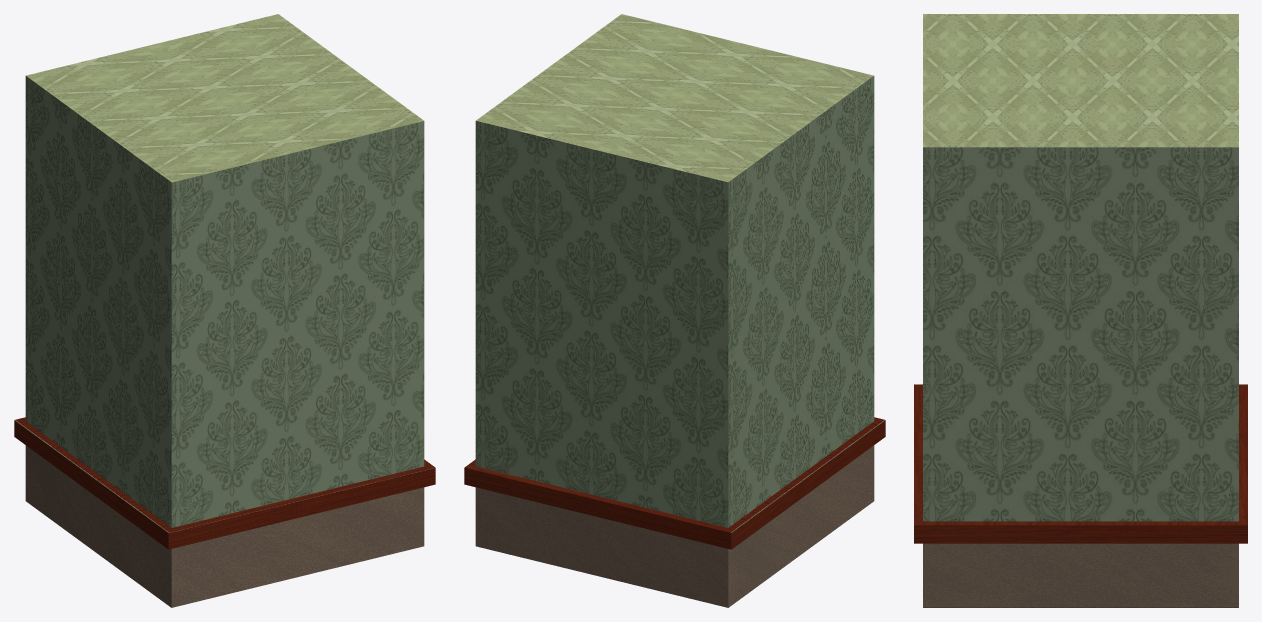
File: wall.obj
3 renders of one model, left to right at view 1: azimuth 30°, elevation 25°; view 2: azimuth 150°, elevation 25°; view 3: azimuth 270°, elevation 25°, orthographic. The views are drawn at different scales.
Parts seen in each view (by area): view 1: Cube; view 2: Cube; view 3: Cube.
Part boxes in pixels (left/top/right/bottom): Cube: left=14, top=14, right=435, bottom=607; Cube: left=464, top=14, right=885, bottom=607; Cube: left=914, top=14, right=1247, bottom=607.
Size of the model in its own units: 2.12 by 3.22 by 2.12.
1 material, 1 textured.
